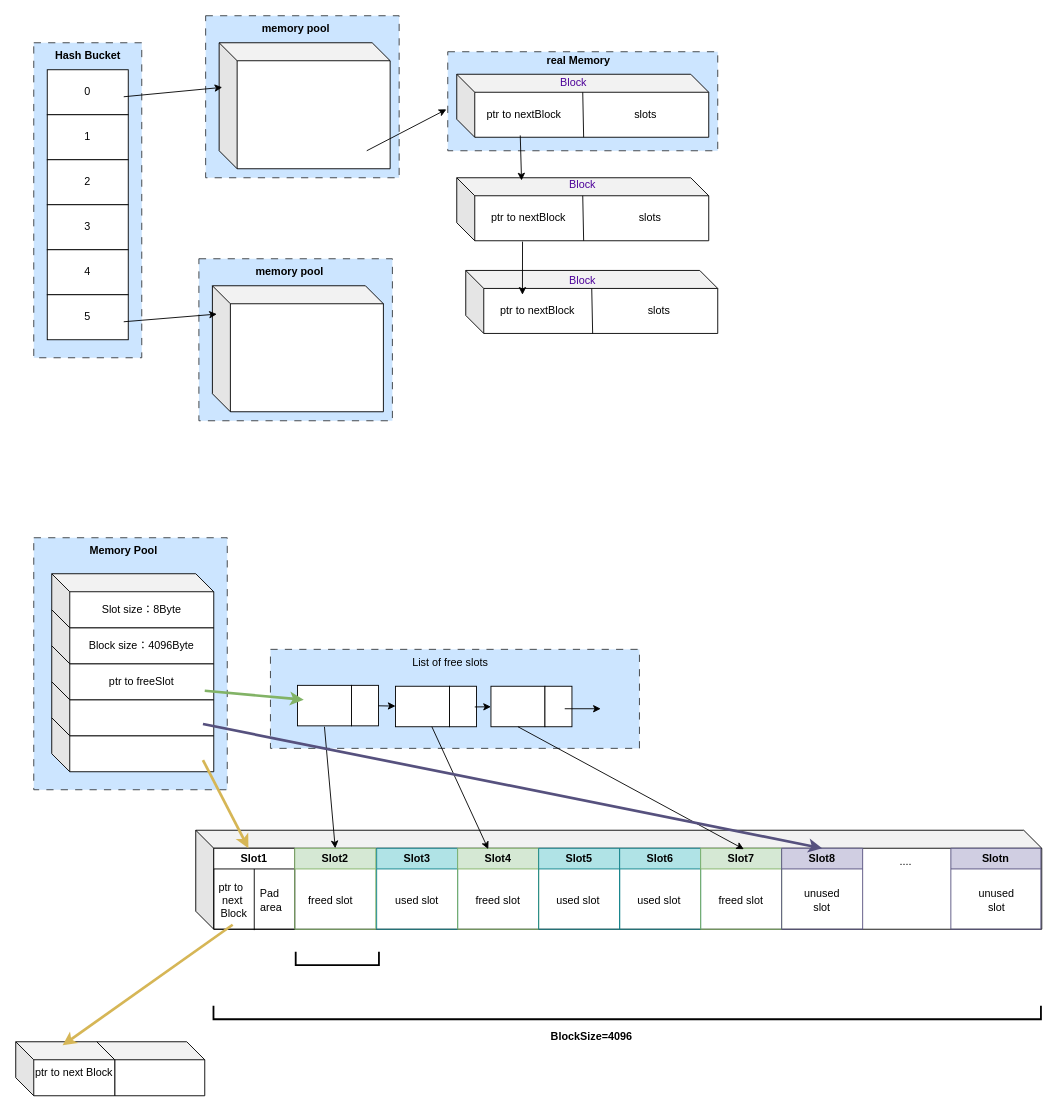
Some shapes in this 1058 by 1112 pixel diagram are drawn without their labels. Each missing label, with the centre of its shape:
"...slots..." goes at point 150,1068.
"ptr to curSlot" goes at point 132,708.
"ptr to firstBlock" goes at point 132,744.
"Slot Size" goes at point 336,958.
"slot size:48B blocksize:4096B ptr to freeSlot ptr to c urSlot ptr to firstBlock" goes at point 297,348.
"slot size:8B blocksize:4096B ptr to freeSlot ptr to c urSlot ptr to firstBlock" goes at point 304,105.
